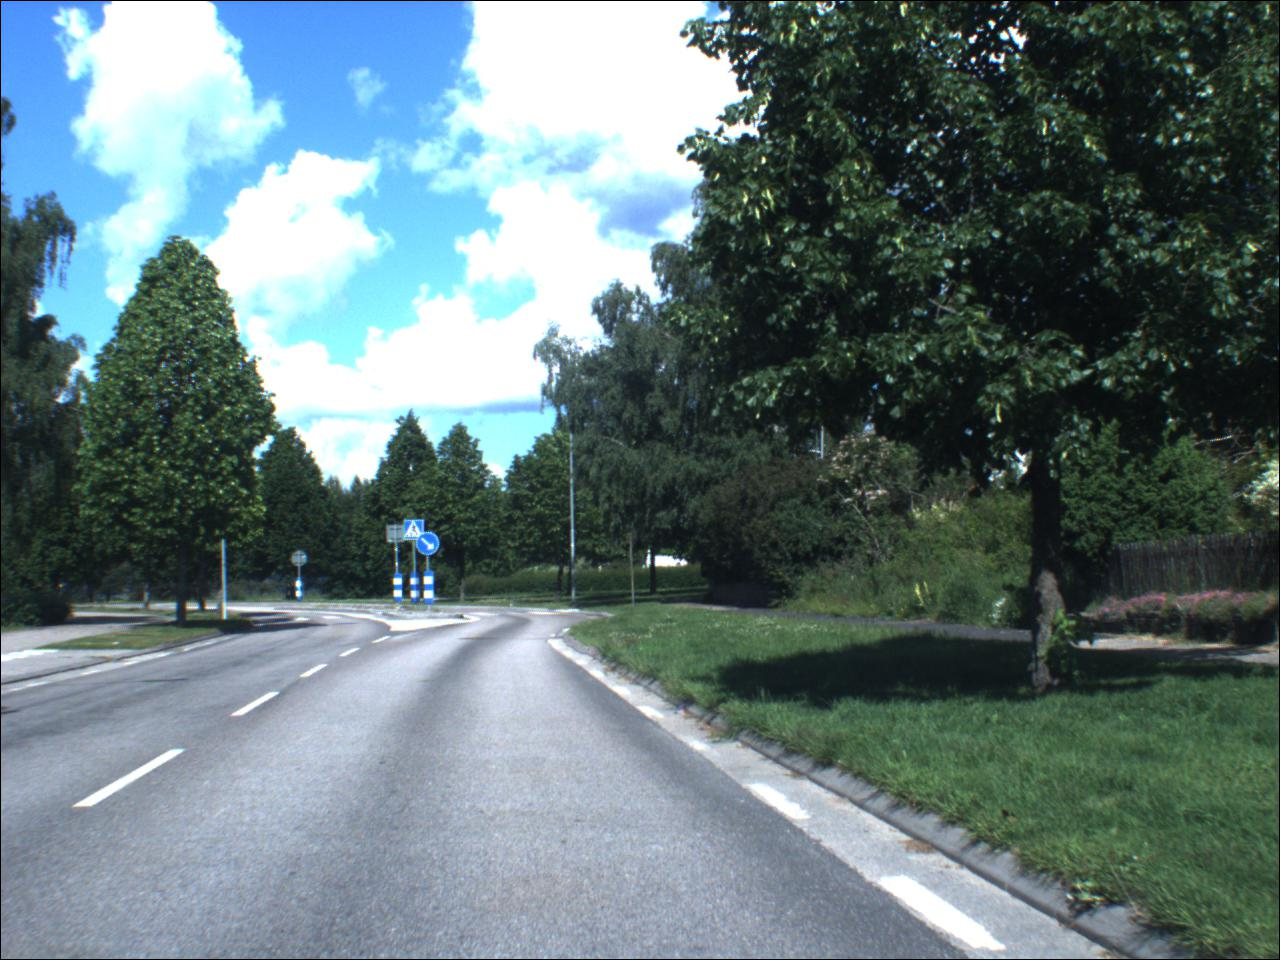PASS_RIGHT_SIDE: (418, 535, 442, 560)
PEDESTRIAN_CROSSING: (406, 522, 428, 543)
